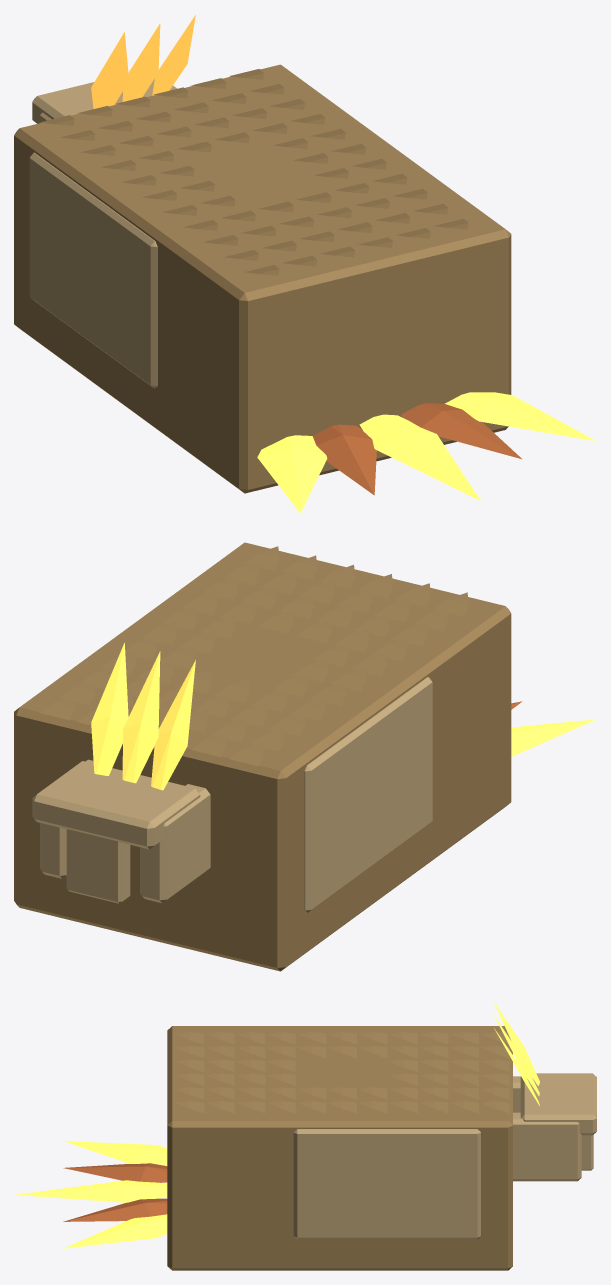
Rendered from body_lod0.glb.
3 views of the same model, one above another, from view 1: azimuth 30°, elevation 25°; view 2: azimuth 150°, elevation 25°; view 3: azimuth 270°, elevation 25° (orthographic). The views are drawn at different scales.
Visible parts, largest first — view 1: phoenix_body_LOD0; view 2: phoenix_body_LOD0; view 3: phoenix_body_LOD0.
Part boxes in pixels (x1=…): phoenix_body_LOD0: x1=14, y1=14, x2=595, y2=513; phoenix_body_LOD0: x1=14, y1=542, x2=596, y2=971; phoenix_body_LOD0: x1=15, y1=1001, x2=596, y2=1270.
Size of the model in its own units: 3.68 by 3.34 by 8.4.
